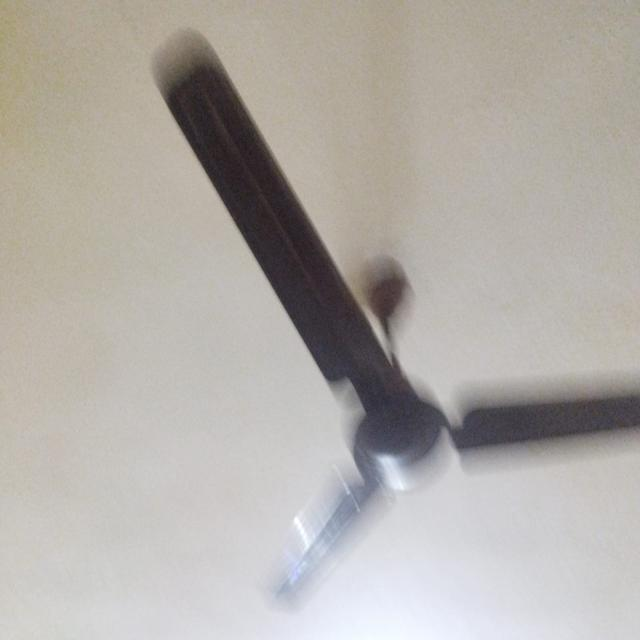fan_off: (170, 64, 640, 601)
